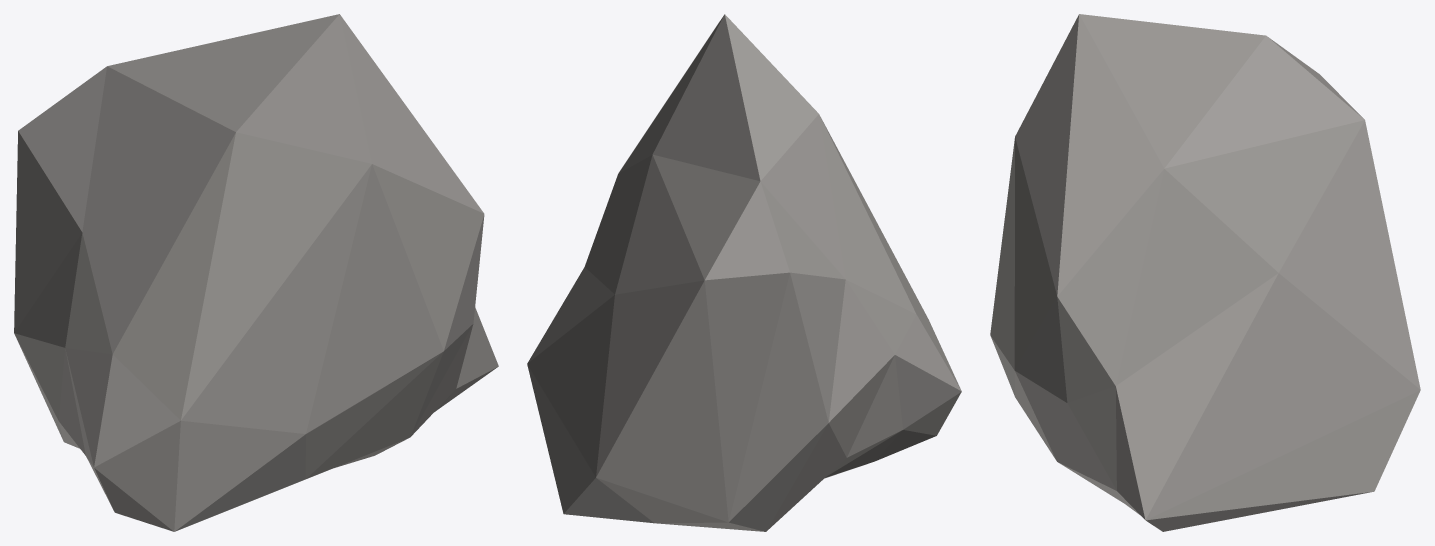
Rendered from Rock2.fbx.
The picture shows the model from 3 angles, left to right: view 1: azimuth 30°, elevation 25°; view 2: azimuth 150°, elevation 25°; view 3: azimuth 270°, elevation 25°; orthographic projection. The views are drawn at different scales.
Parts seen in each view (by area): view 1: Rock010; view 2: Rock010; view 3: Rock010.
Boxes of the visible parts, x1=… form: Rock010: x1=14, y1=14, x2=498, y2=531; Rock010: x1=527, y1=14, x2=961, y2=531; Rock010: x1=990, y1=14, x2=1420, y2=531.
Size of the model in its own units: 94.72 by 95.18 by 79.98.
